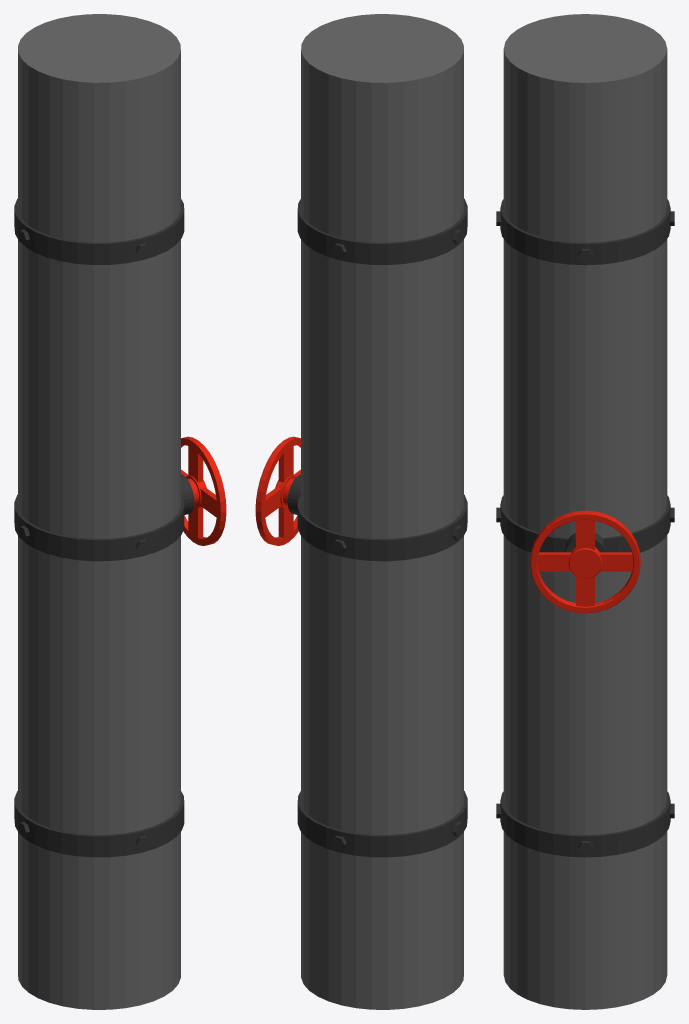
File: valve_1.fbx
The picture shows the model from 3 angles, left to right: view 1: azimuth 30°, elevation 25°; view 2: azimuth 150°, elevation 25°; view 3: azimuth 270°, elevation 25°; orthographic projection.
Visible parts, largest first — view 1: Cylinder, Cylinder.003, Cylinder.004, Cylinder.002, Cylinder.006; view 2: Cylinder, Cylinder.003, Cylinder.004, Cylinder.002, Cylinder.006; view 3: Cylinder, Cylinder.006, Cylinder.004, Cylinder.002, Cylinder.003.
Boxes of the visible parts, x1,y1,x2,y2 form: Cylinder: (18, 14, 180, 1009); Cylinder.003: (14, 494, 184, 561); Cylinder.004: (14, 791, 184, 857); Cylinder.002: (14, 198, 184, 264); Cylinder.006: (181, 436, 226, 545); Cylinder: (301, 14, 463, 1009); Cylinder.003: (297, 494, 467, 561); Cylinder.004: (297, 791, 467, 857); Cylinder.002: (297, 198, 467, 264); Cylinder.006: (255, 436, 300, 545); Cylinder: (503, 14, 667, 1009); Cylinder.006: (530, 510, 640, 613); Cylinder.004: (500, 791, 670, 857); Cylinder.002: (500, 199, 670, 265); Cylinder.003: (500, 495, 670, 552).
Size of the model in its own units: 251 by 1252 by 218.
